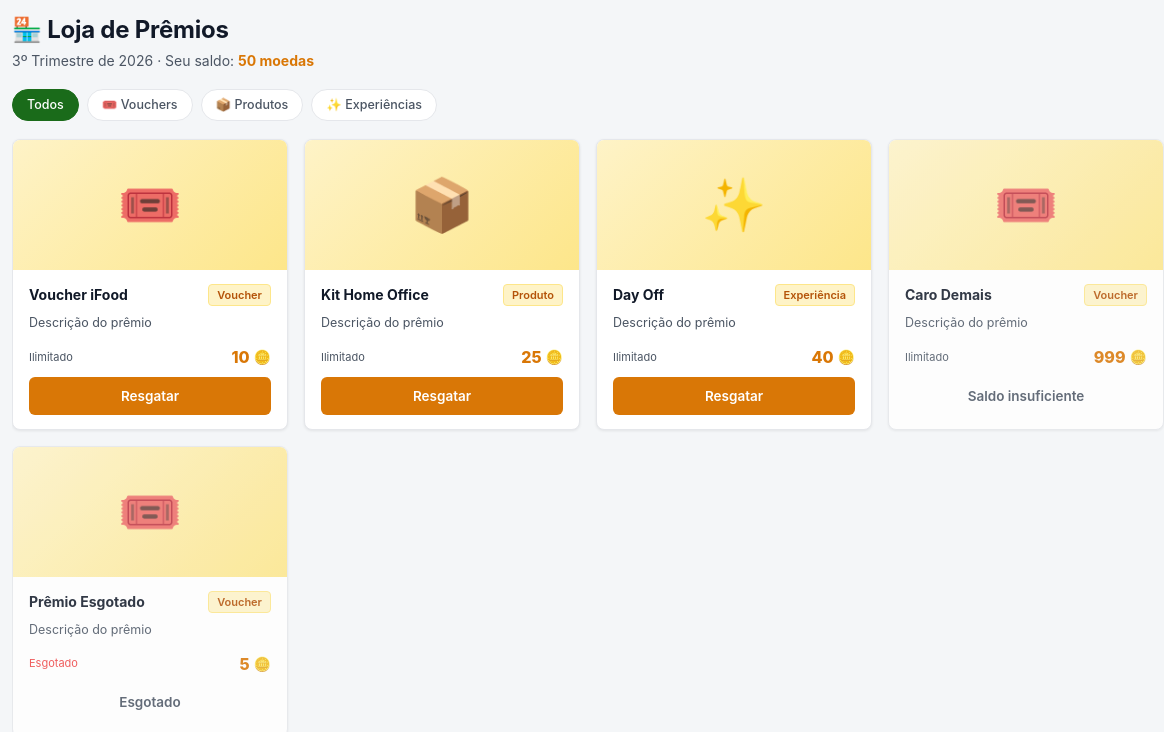
LojaPage — filtros por categoria › filtro Produtos exibe apenas produtos
Step 1. Click the button "📦 Produtos" → x=252, y=105, box [201,89,303,121]
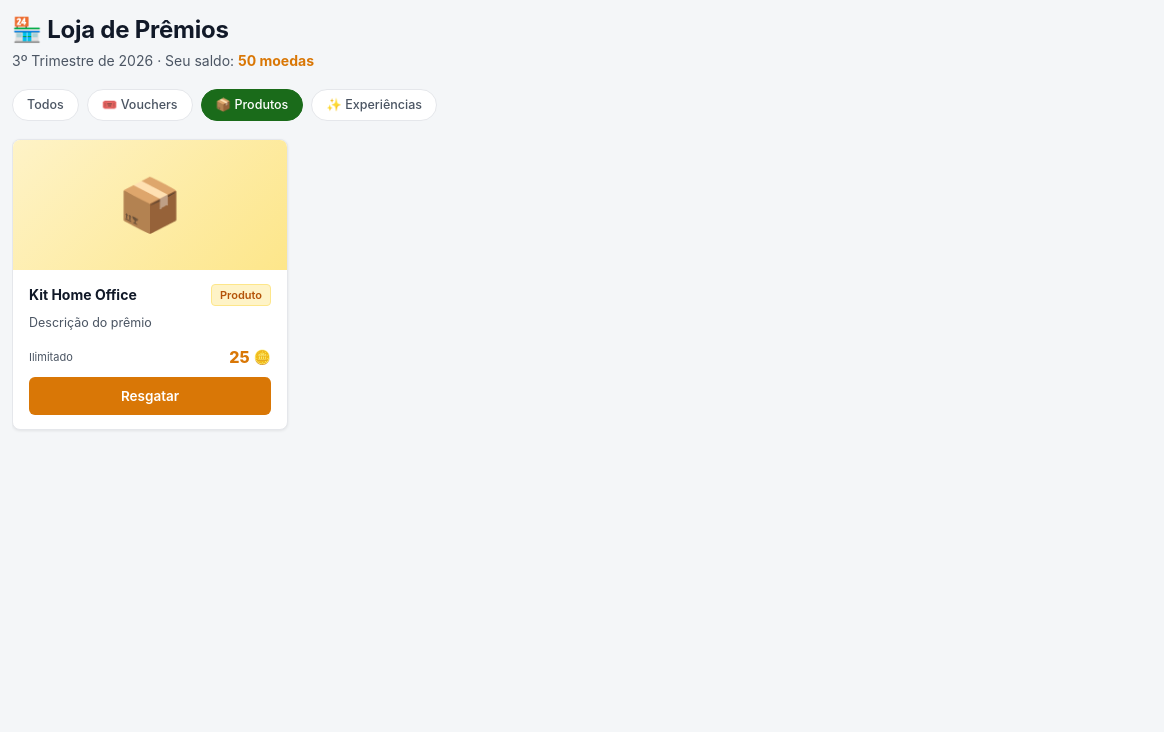
Expected: the text "Kit Home Office" is shown, [29,284,137,305]
Result: the text "Voucher iFood" is gone
